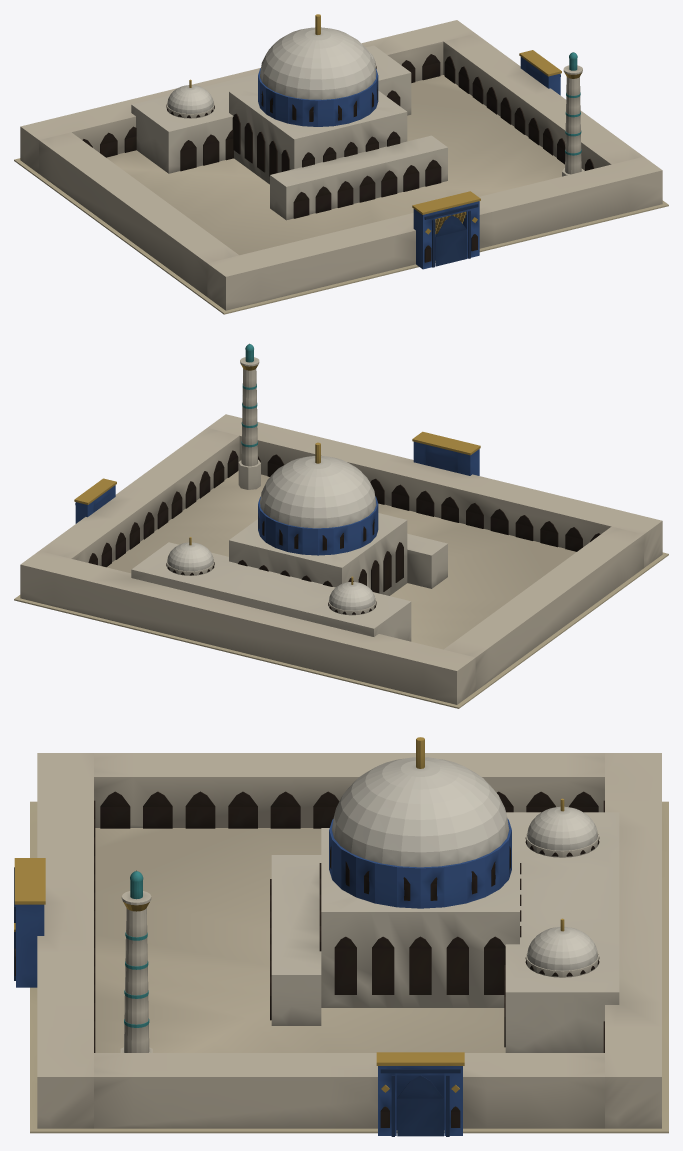
File: gilani-mosque.glb
3 views of the same model, one above another, from view 1: azimuth 30°, elevation 25°; view 2: azimuth 150°, elevation 25°; view 3: azimuth 270°, elevation 25° (orthographic). The views are drawn at different scales.
Parts seen in each view (by area): view 1: p0_court, p2_tomb and prayer hall, p3_domes and minaret, p1_gates; view 2: p0_court, p2_tomb and prayer hall, p3_domes and minaret, p1_gates; view 3: p0_court, p2_tomb and prayer hall, p3_domes and minaret, p1_gates.
Boxes of the visible parts, left/top/right/bottom form: p0_court: left=14, top=20, right=668, bottom=314; p2_tomb and prayer hall: left=131, top=45, right=447, bottom=220; p3_domes and minaret: left=166, top=14, right=584, bottom=176; p1_gates: left=412, top=50, right=561, bottom=269; p0_court: left=14, top=414, right=668, bottom=708; p2_tomb and prayer hall: left=131, top=513, right=447, bottom=641; p3_domes and minaret: left=166, top=343, right=378, bottom=615; p1_gates: left=74, top=431, right=480, bottom=523; p0_court: left=30, top=753, right=668, bottom=1133; p2_tomb and prayer hall: left=270, top=812, right=619, bottom=1052; p3_domes and minaret: left=120, top=737, right=599, bottom=1052; p1_gates: left=14, top=858, right=464, bottom=1136.
Bounding box in the file's own units: 112 × 35.67 × 92.28.
